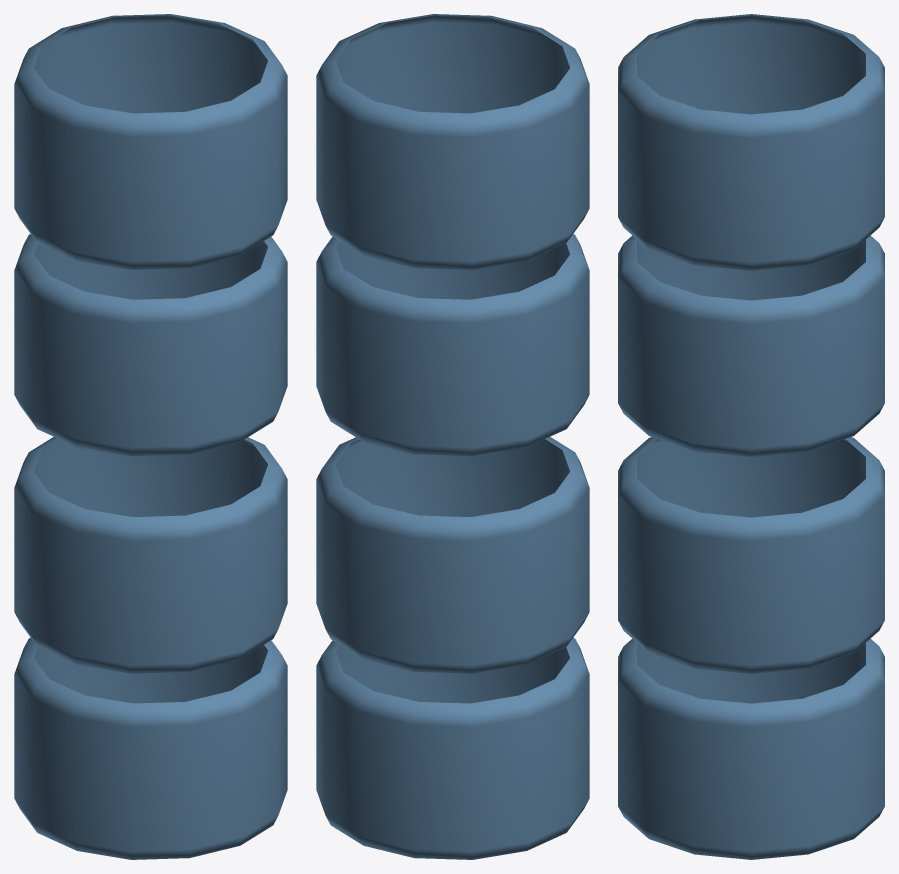
Rendered from PistonTanks.fbx.
3 views of the same model, side by side, from view 1: azimuth 30°, elevation 25°; view 2: azimuth 150°, elevation 25°; view 3: azimuth 270°, elevation 25° (orthographic).
Visible parts, largest first — view 1: PistonTanks; view 2: PistonTanks; view 3: PistonTanks.
Boxes of the visible parts, x1,y1,x2,y2 form: PistonTanks: [14, 14, 287, 859]; PistonTanks: [316, 14, 589, 859]; PistonTanks: [618, 14, 884, 859].
Bounding box in the file's own units: 4000 × 12000 × 3900.
